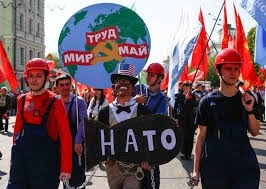helmet: (214, 48, 240, 65), (25, 58, 44, 74), (149, 63, 164, 76)
person with partial safety: (15, 57, 66, 181), (205, 48, 252, 182), (147, 62, 171, 116)
person without safety: (104, 60, 146, 189), (55, 75, 88, 139)
